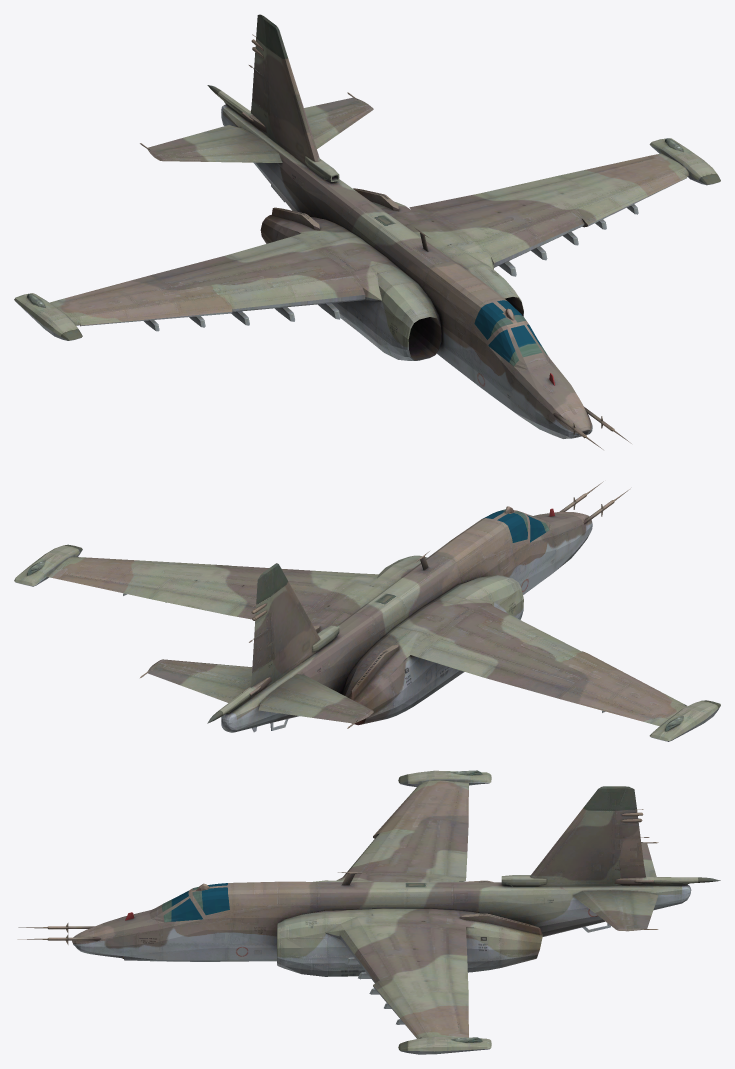
The model's file is Su25Frogfoot.FBX.
3 views of the same model, one above another, from view 1: azimuth 30°, elevation 25°; view 2: azimuth 150°, elevation 25°; view 3: azimuth 270°, elevation 25° (orthographic). The views are drawn at different scales.
Parts seen in each view (by area): view 1: LOD0, VoletR01, VoletL01, Canopy01, BrakeR02, BrakeL02, Glass01, Glass_Canopy01, ElevatorR01, RudderL01; view 2: LOD0, BrakeR02, Canopy01, BrakeL02, ElevatorR01, VoletR01, ElevatorL01, FlapR01, FlapL01, FlapR02, RudderL01, AileronR01 (+5 smaller); view 3: LOD0, VoletL01, Canopy01, BrakeL02, BrakeR02, RudderL01, VoletR01, Glass_Canopy01, ElevatorL01, Glass01, FlapL01, FlapL02 (+4 smaller).
Boxes of the visible parts, bbox=[...] form: LOD0: bbox=[14, 14, 720, 449]; VoletR01: bbox=[80, 275, 365, 326]; VoletL01: bbox=[480, 170, 687, 267]; Canopy01: bbox=[446, 277, 527, 343]; BrakeR02: bbox=[160, 242, 320, 284]; BrakeL02: bbox=[431, 180, 575, 221]; Glass01: bbox=[488, 324, 547, 366]; Glass_Canopy01: bbox=[474, 300, 526, 339]; ElevatorR01: bbox=[147, 125, 249, 151]; RudderL01: bbox=[252, 53, 268, 112]; LOD0: bbox=[14, 481, 720, 741]; BrakeR02: bbox=[431, 631, 575, 688]; Canopy01: bbox=[452, 506, 529, 559]; BrakeL02: bbox=[160, 581, 320, 613]; ElevatorR01: bbox=[258, 694, 359, 723]; VoletR01: bbox=[480, 605, 686, 705]; ElevatorL01: bbox=[147, 667, 246, 702]; FlapR01: bbox=[482, 665, 567, 698]; FlapL01: bbox=[150, 589, 239, 614]; FlapR02: bbox=[420, 647, 493, 676]; RudderL01: bbox=[252, 612, 273, 672]; AileronR01: bbox=[559, 689, 654, 723]; LOD0: bbox=[17, 770, 720, 1054]; VoletL01: bbox=[339, 926, 426, 1038]; Canopy01: bbox=[190, 881, 278, 918]; BrakeL02: bbox=[416, 926, 451, 991]; BrakeR02: bbox=[417, 820, 451, 875]; RudderL01: bbox=[611, 823, 643, 865]; VoletR01: bbox=[343, 784, 426, 876]; Glass_Canopy01: bbox=[192, 883, 229, 915]; ElevatorL01: bbox=[628, 891, 658, 928]; Glass01: bbox=[161, 890, 202, 922]; FlapL01: bbox=[447, 957, 468, 994]; FlapL02: bbox=[446, 928, 467, 960].
Size of the model in its own units: 86.6 by 93.46 by 25.01.
